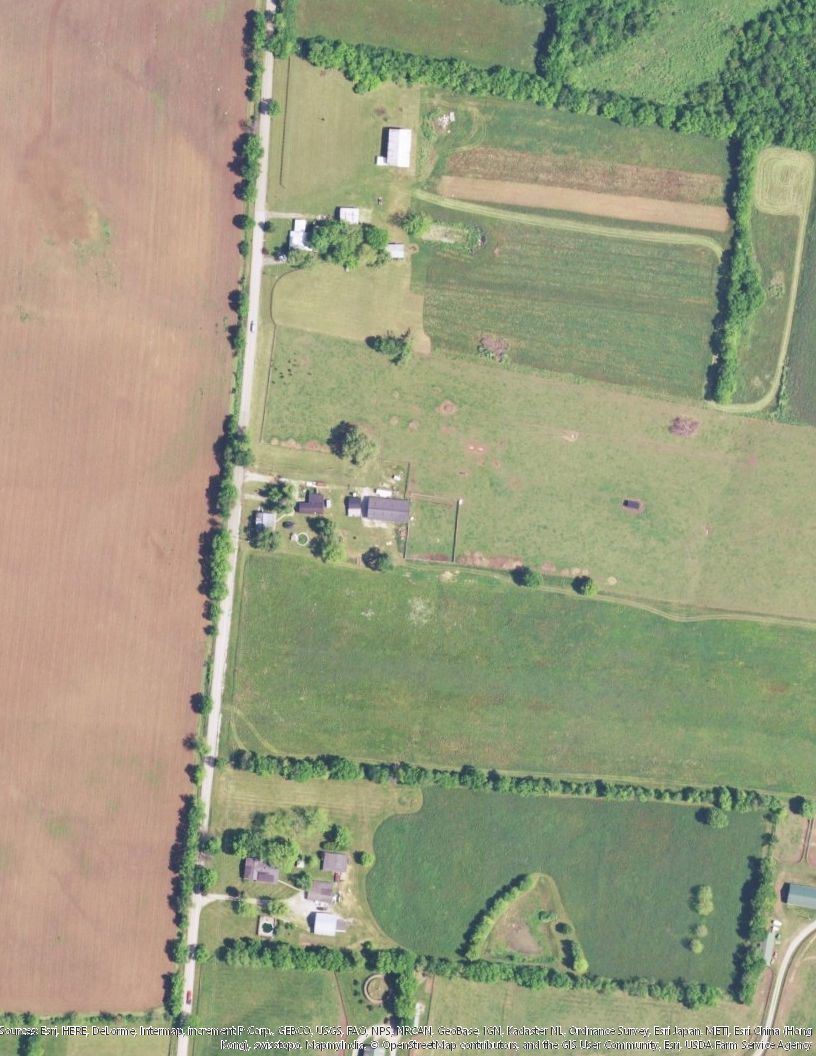cafo: (364, 490, 417, 528)
